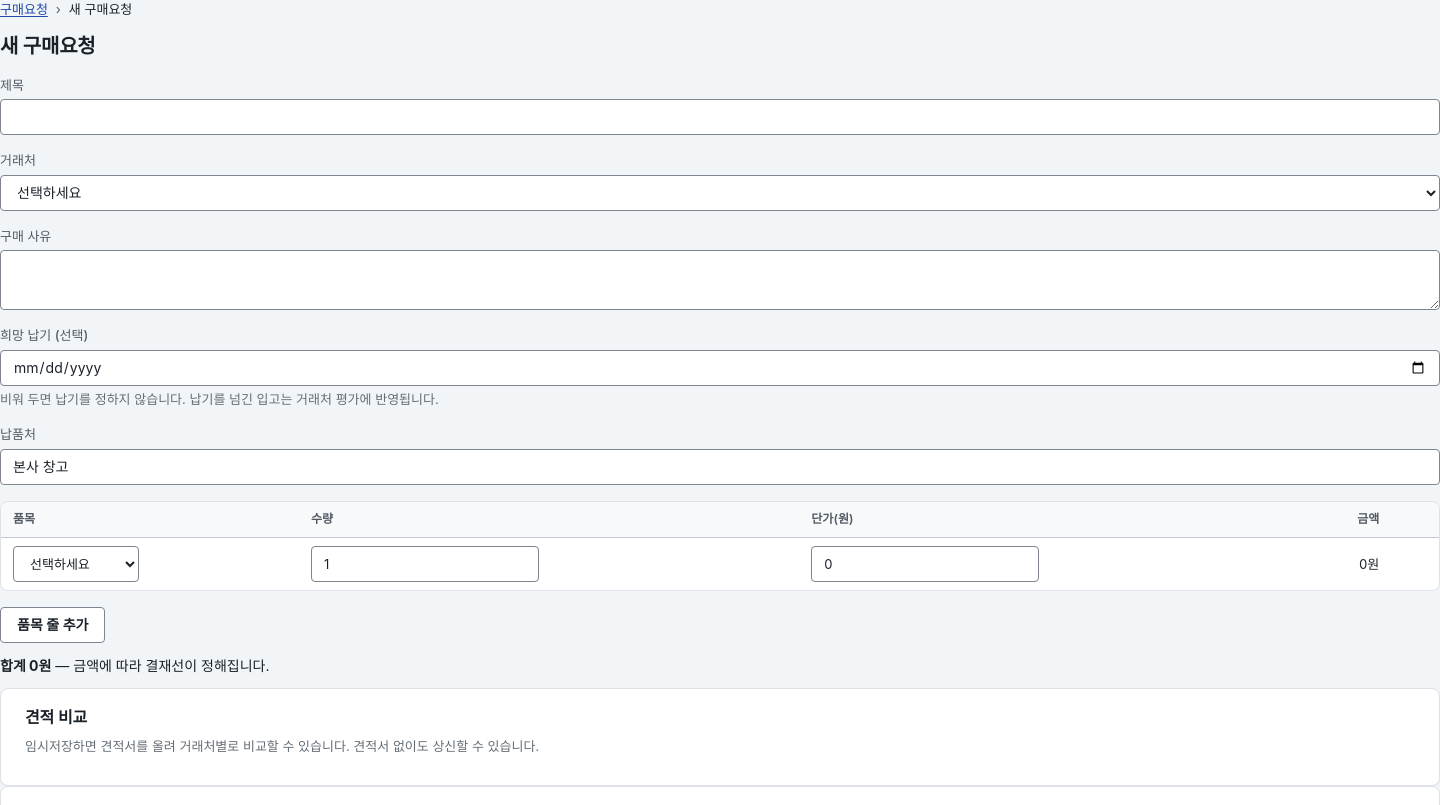
Test: 관련 규정 묶음 › 품목 조항이 없으면 품목 묶음 제목을 그리지 않는다
This screenshot has width=1440, height=805.
Select "복사용지 (P-1)" in the dropdown named "1번째 줄 품목" at [76, 564], box [13,546,139,582]
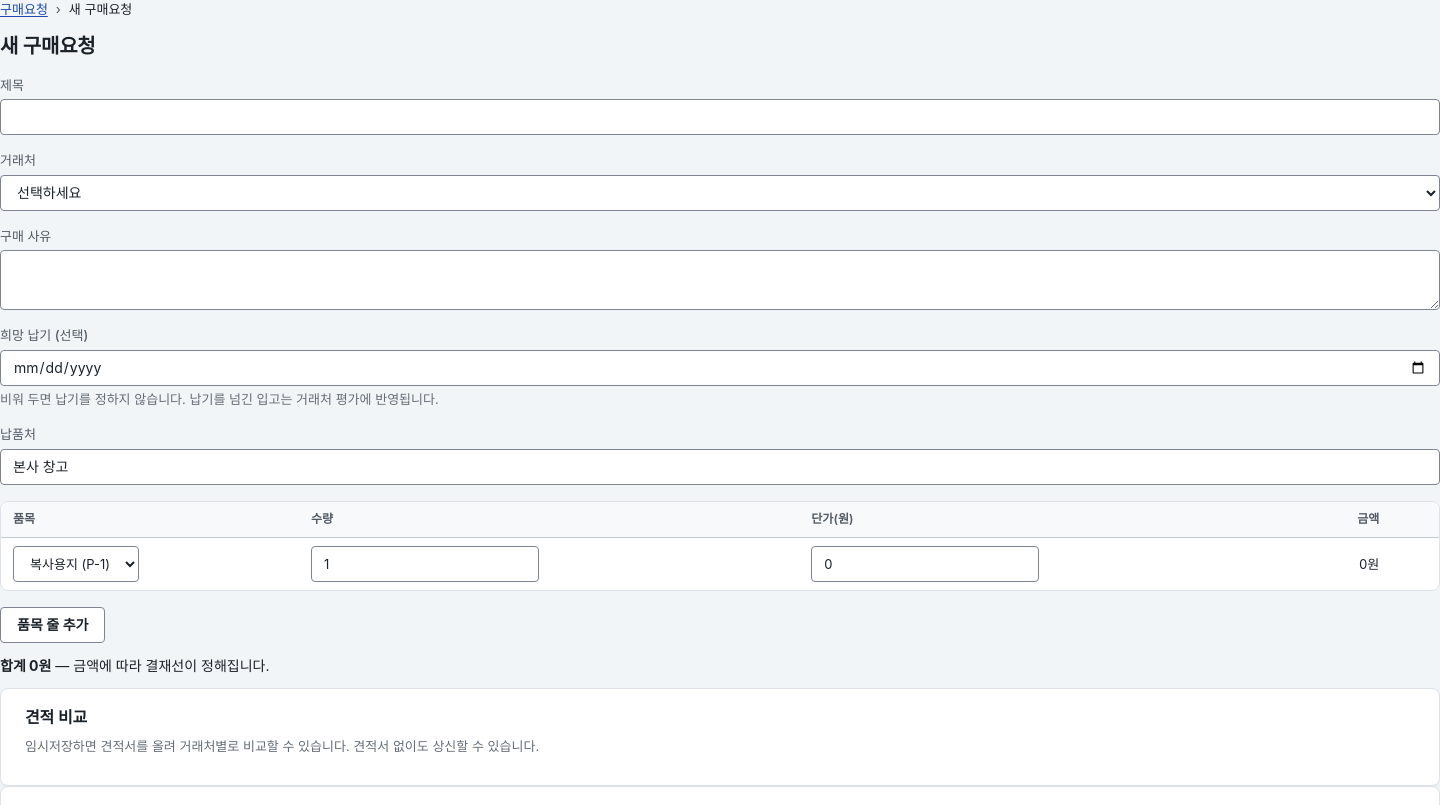
Replace the text in the field named "1번째 줄 단가" with "500000" at [925, 564], box [811,546,1039,582]
(page scrolled)
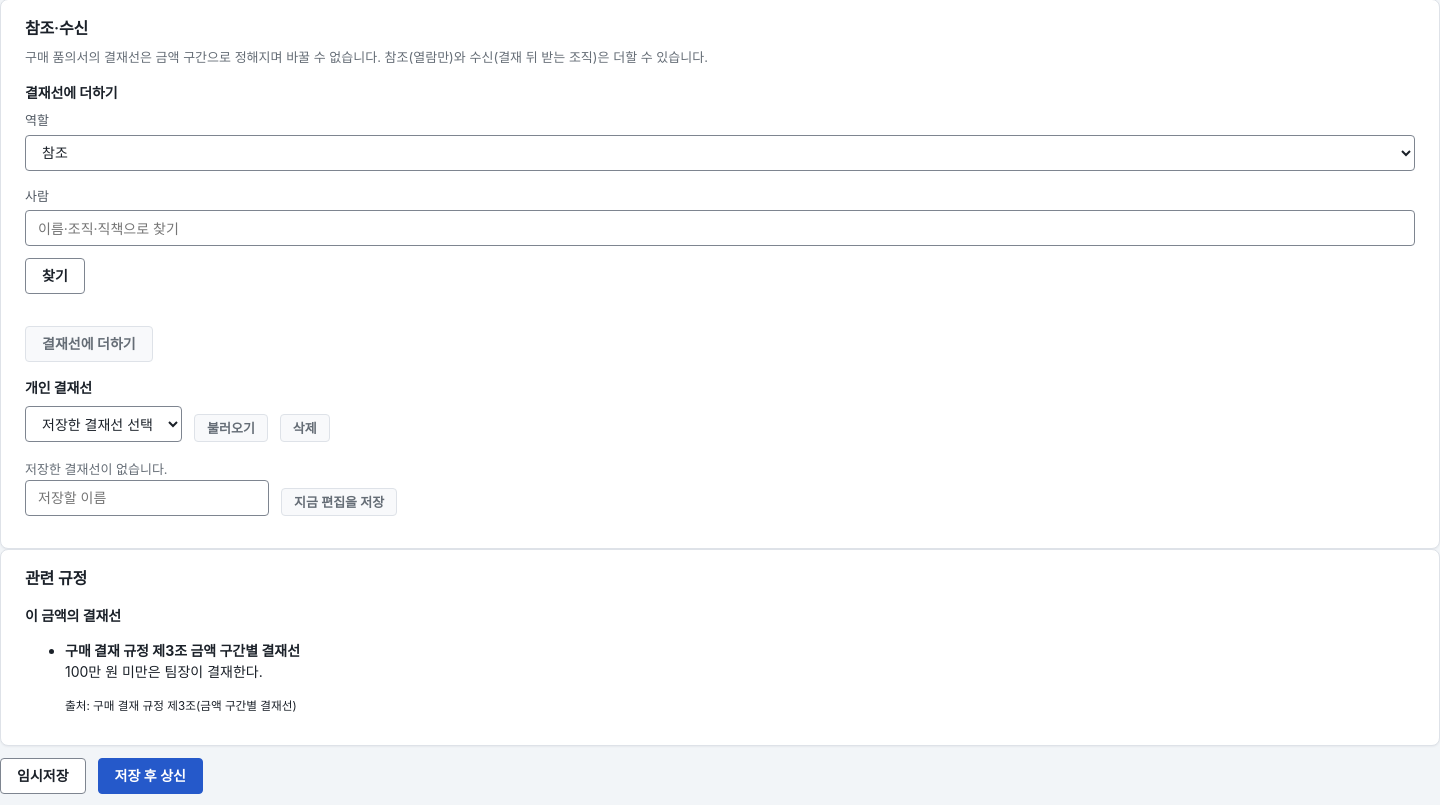
Expected: the text "100만 원 미만은 팀장이 결재한다." is shown, [65,662,263,680]
